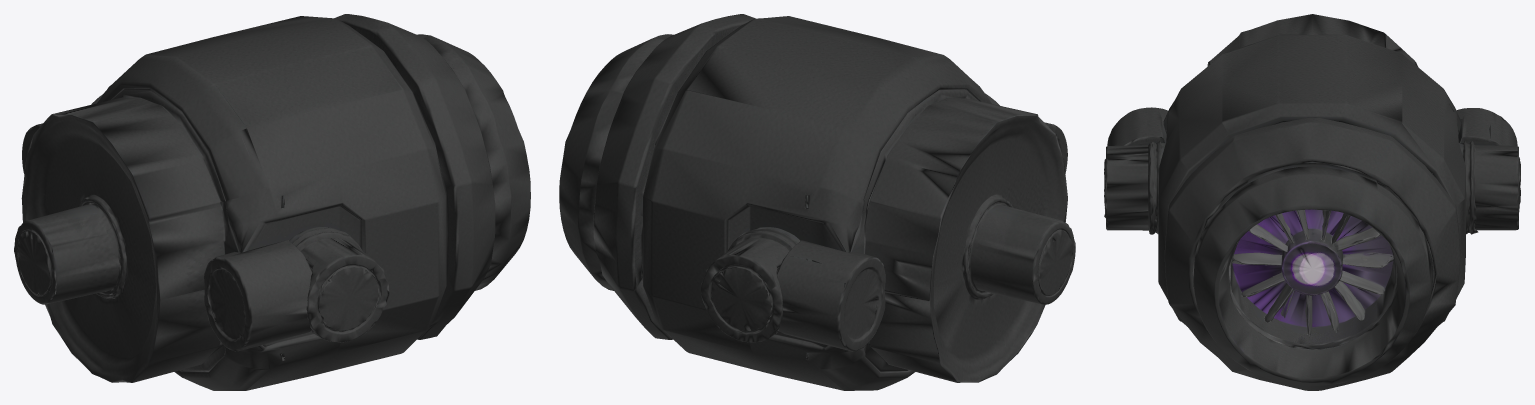
File: boss_vtol_thruster.glb
3 views of the same model, side by side, from view 1: azimuth 30°, elevation 25°; view 2: azimuth 150°, elevation 25°; view 3: azimuth 270°, elevation 25° (orthographic). The views are drawn at different scales.
Parts seen in each view (by area): view 1: boss_vtol_thruster; view 2: boss_vtol_thruster; view 3: boss_vtol_thruster.
Part boxes in pixels (x1,y1,x2,y2): boss_vtol_thruster: (14, 14, 530, 390); boss_vtol_thruster: (559, 14, 1075, 390); boss_vtol_thruster: (1104, 14, 1520, 390).
Bounding box in the file's own units: 1.3 × 0.8669 × 1.18.
1 material, 1 textured.
